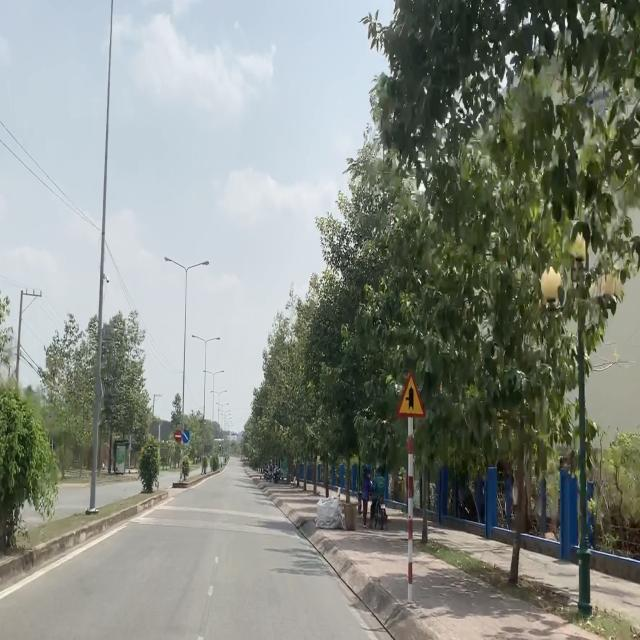Cam nguoc chieu: (175, 430, 182, 442)
Giao voi duong khong uu tien: (397, 371, 425, 418)
Hieu lenh: (182, 430, 189, 442)
